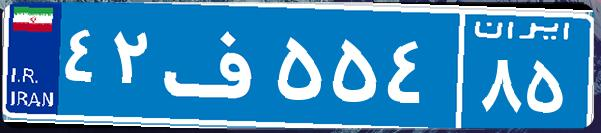2: (110, 28, 158, 105)
4: (385, 28, 445, 110), (57, 26, 110, 107)
5: (273, 28, 330, 110), (330, 28, 385, 110), (525, 38, 570, 115)
8: (475, 38, 525, 113)
ف: (158, 15, 273, 115)
